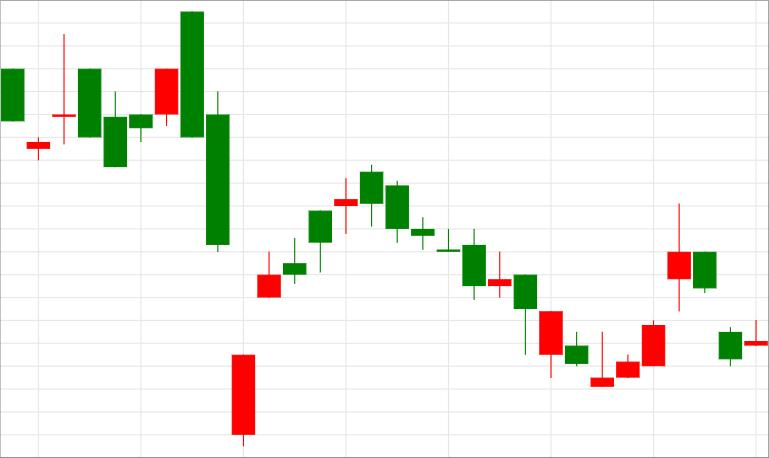hammer_rise: (360, 165, 537, 356)
